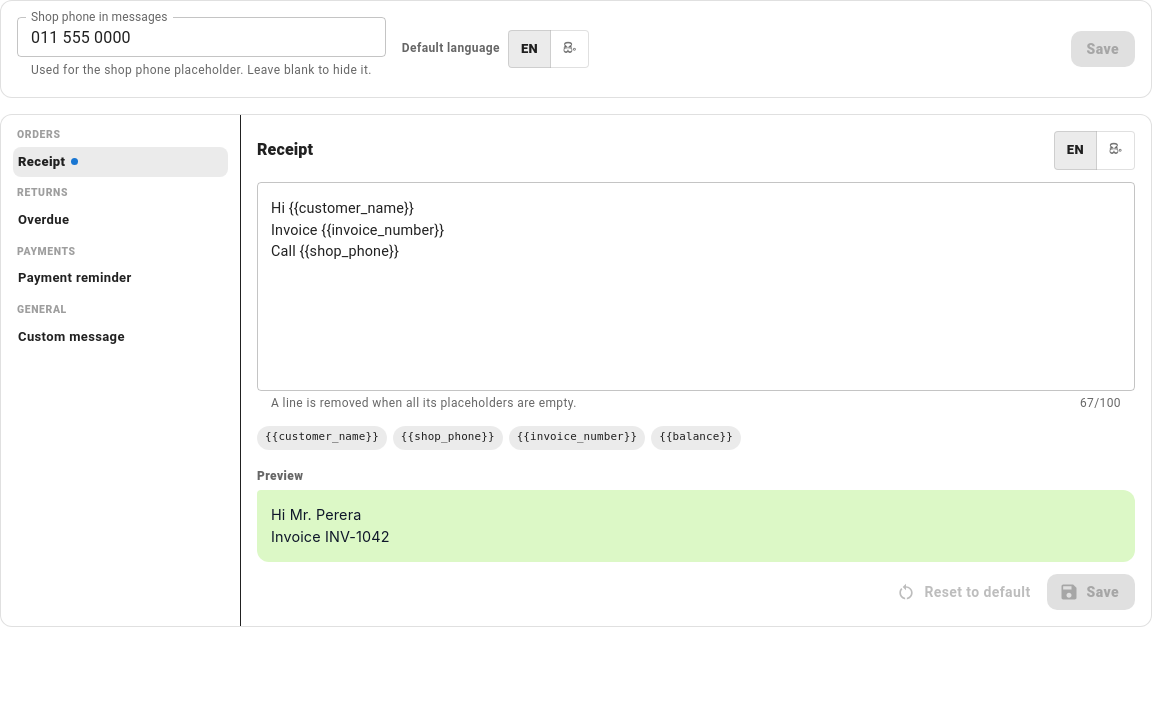
TemplatesTab › opens another message type
Click the button "Overdue" at (120, 220), box [13,205,228,236]
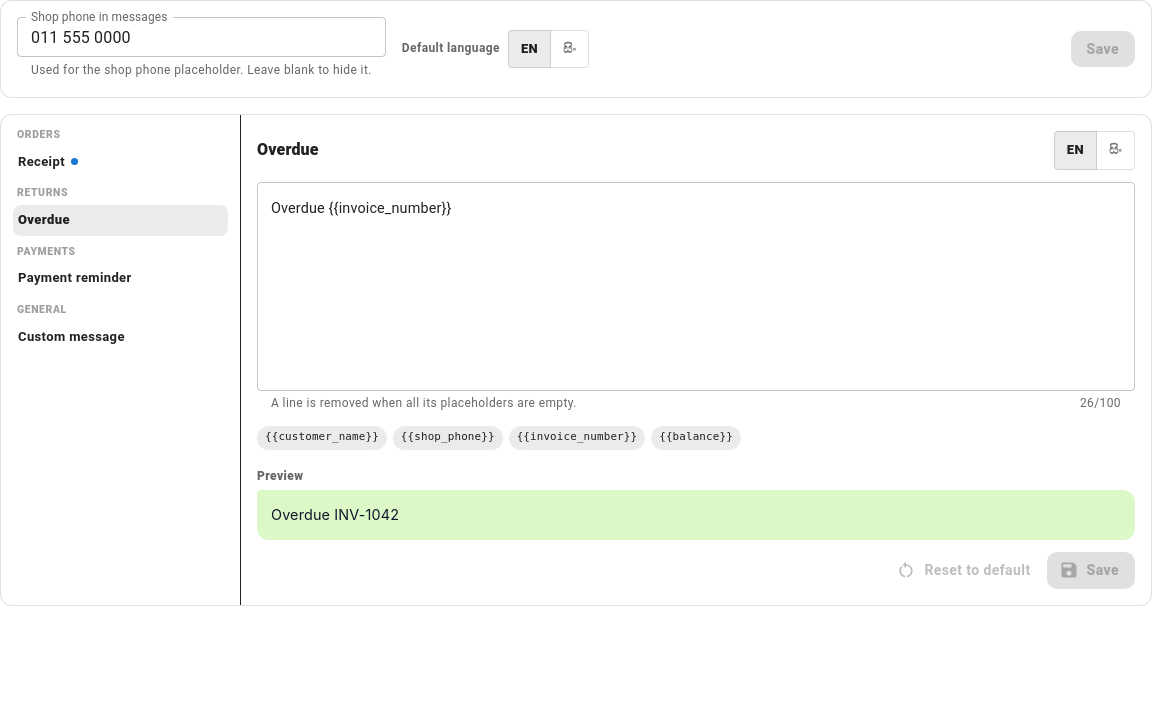
Expected: the text box named "Message wording" holds "Overdue {{invoice_number}}", [271,198,1121,374]
